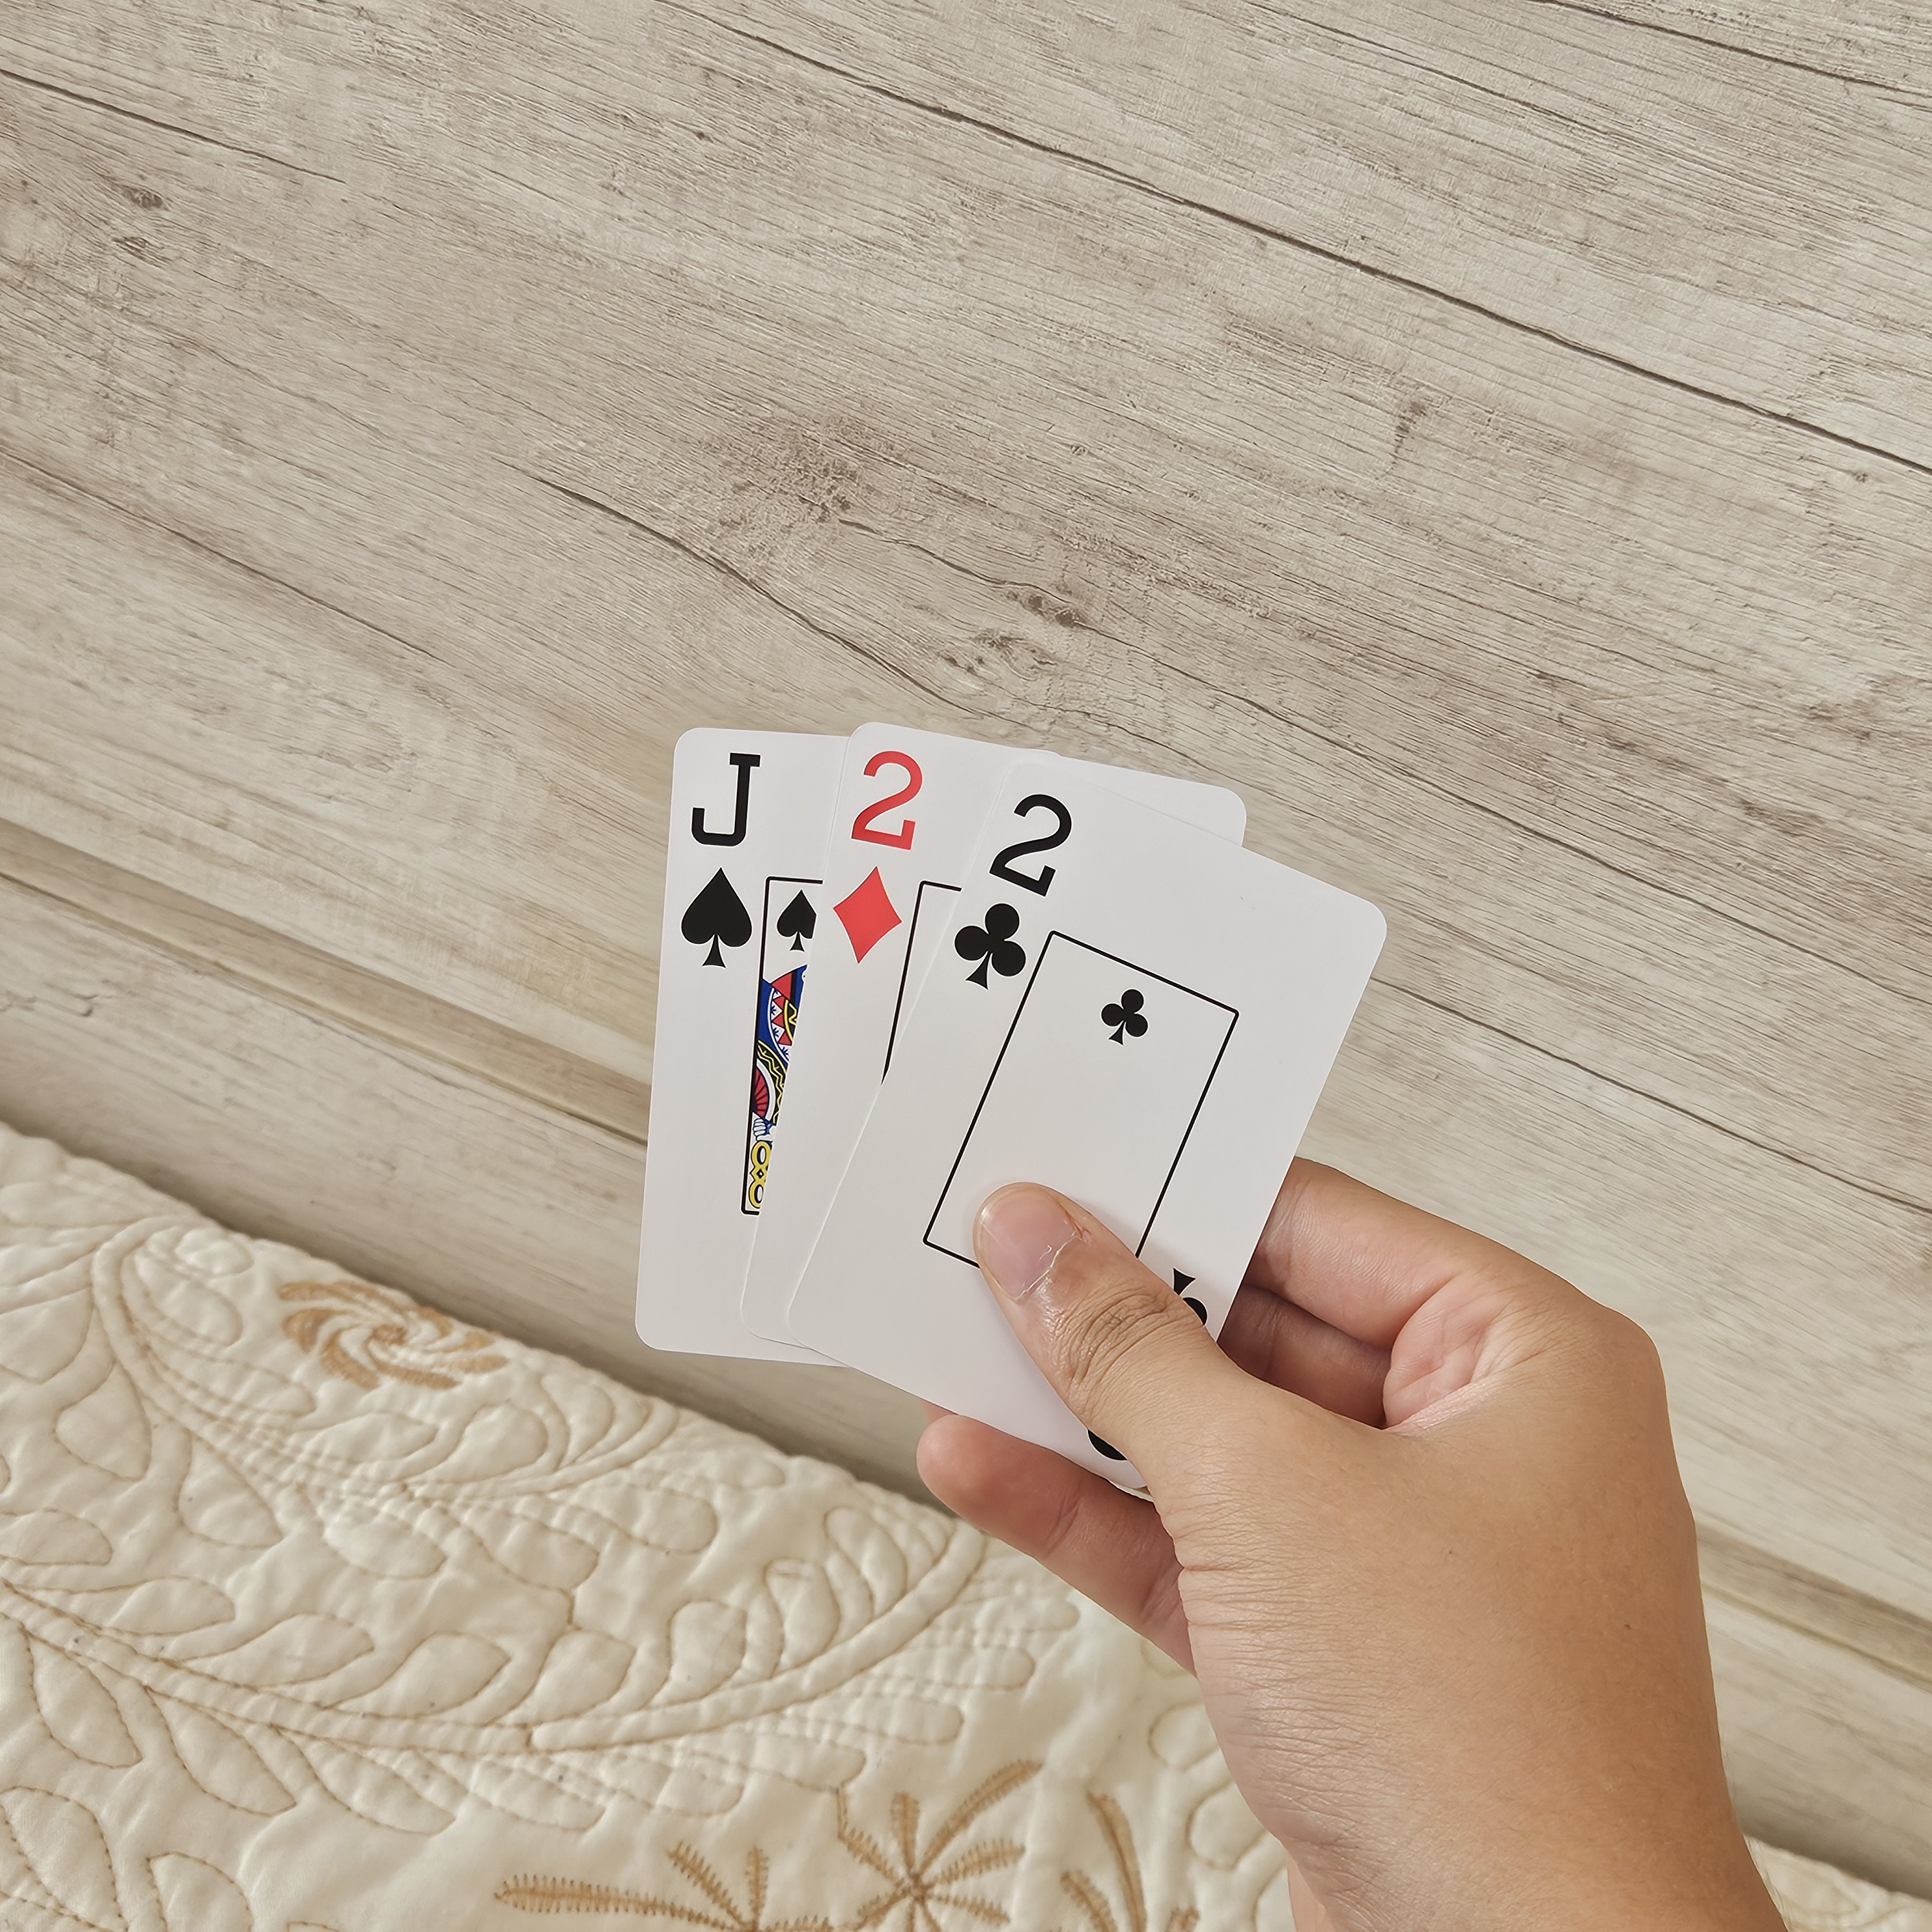2O: (816, 725, 931, 968)
2P: (945, 768, 1079, 1000)
JE: (663, 732, 768, 980)
